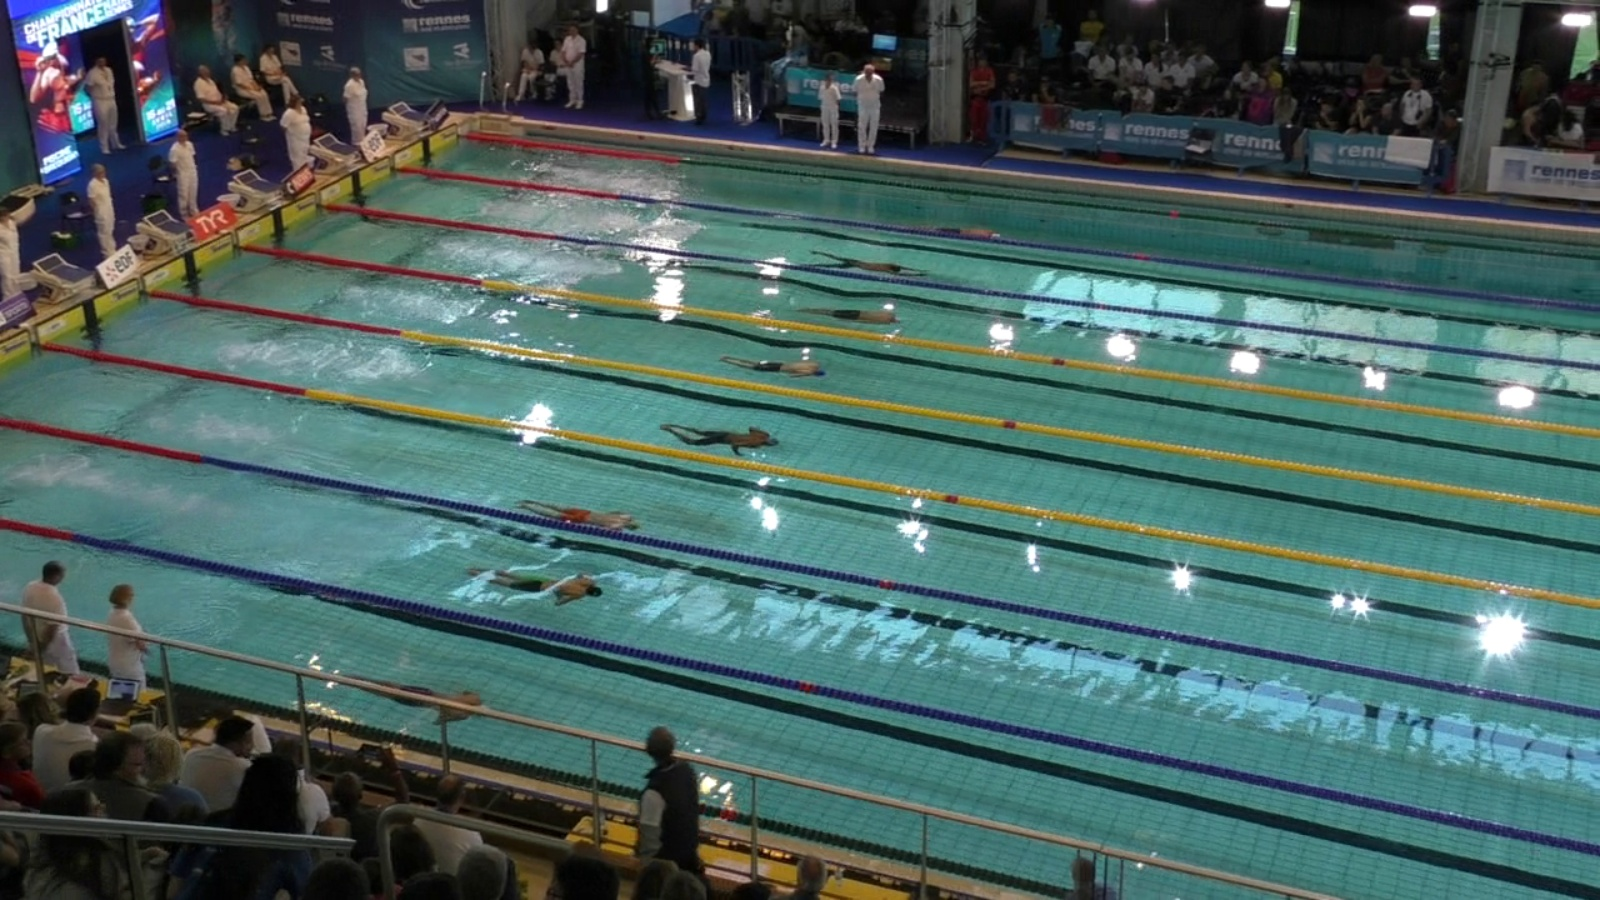swimmerwdd: (342, 671, 501, 733), (510, 488, 658, 548), (458, 559, 605, 615), (658, 416, 785, 473), (709, 345, 837, 395), (809, 243, 927, 284), (793, 303, 913, 336), (907, 221, 1011, 248)
